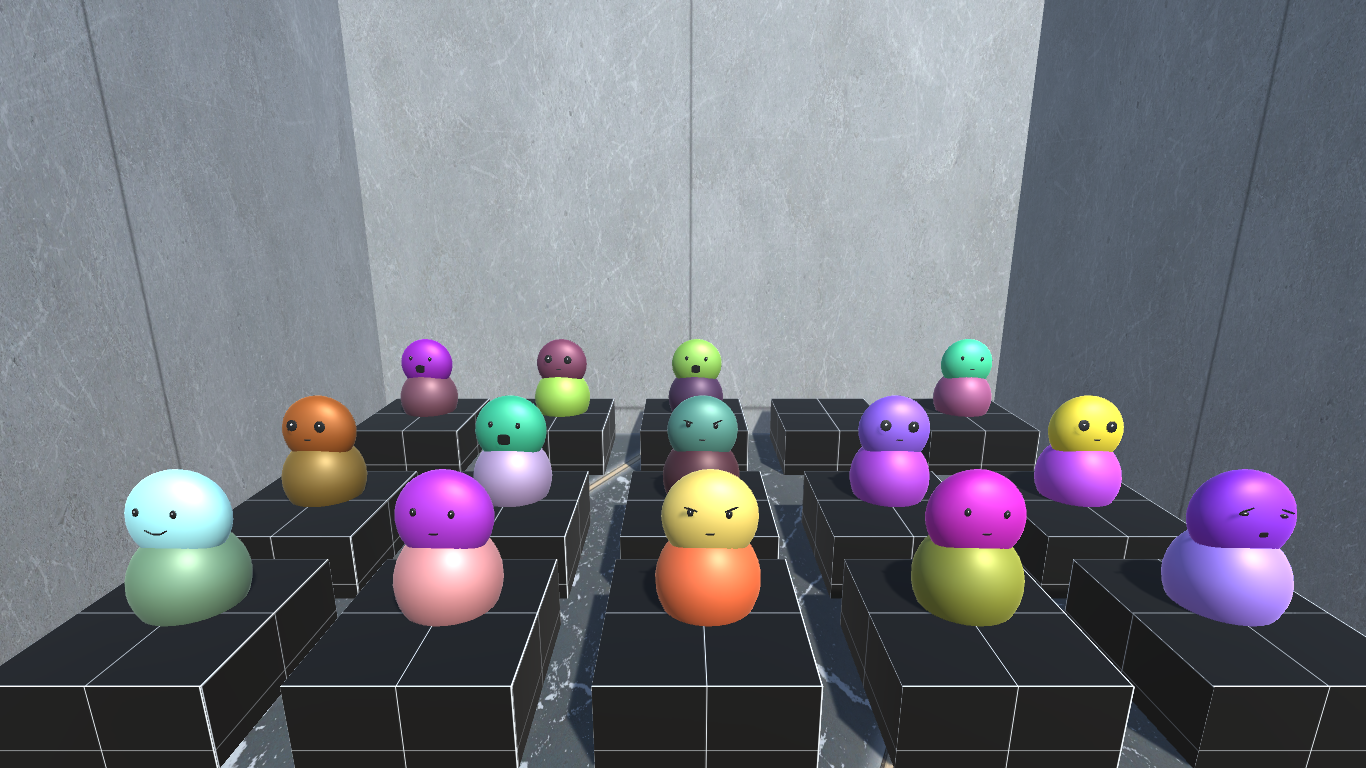blob_atento: (1028, 397, 1131, 522), (272, 397, 372, 508), (848, 391, 932, 515), (531, 339, 594, 424)
blob_entediado: (1159, 474, 1304, 635)
blob_feliz: (123, 467, 266, 629)
blob_normal: (909, 470, 1030, 640), (391, 469, 514, 634), (934, 338, 996, 420)
blob_raiva: (645, 463, 769, 620), (656, 402, 766, 487)
blob_surpreso: (472, 400, 559, 507), (664, 338, 732, 416), (399, 337, 458, 425)
